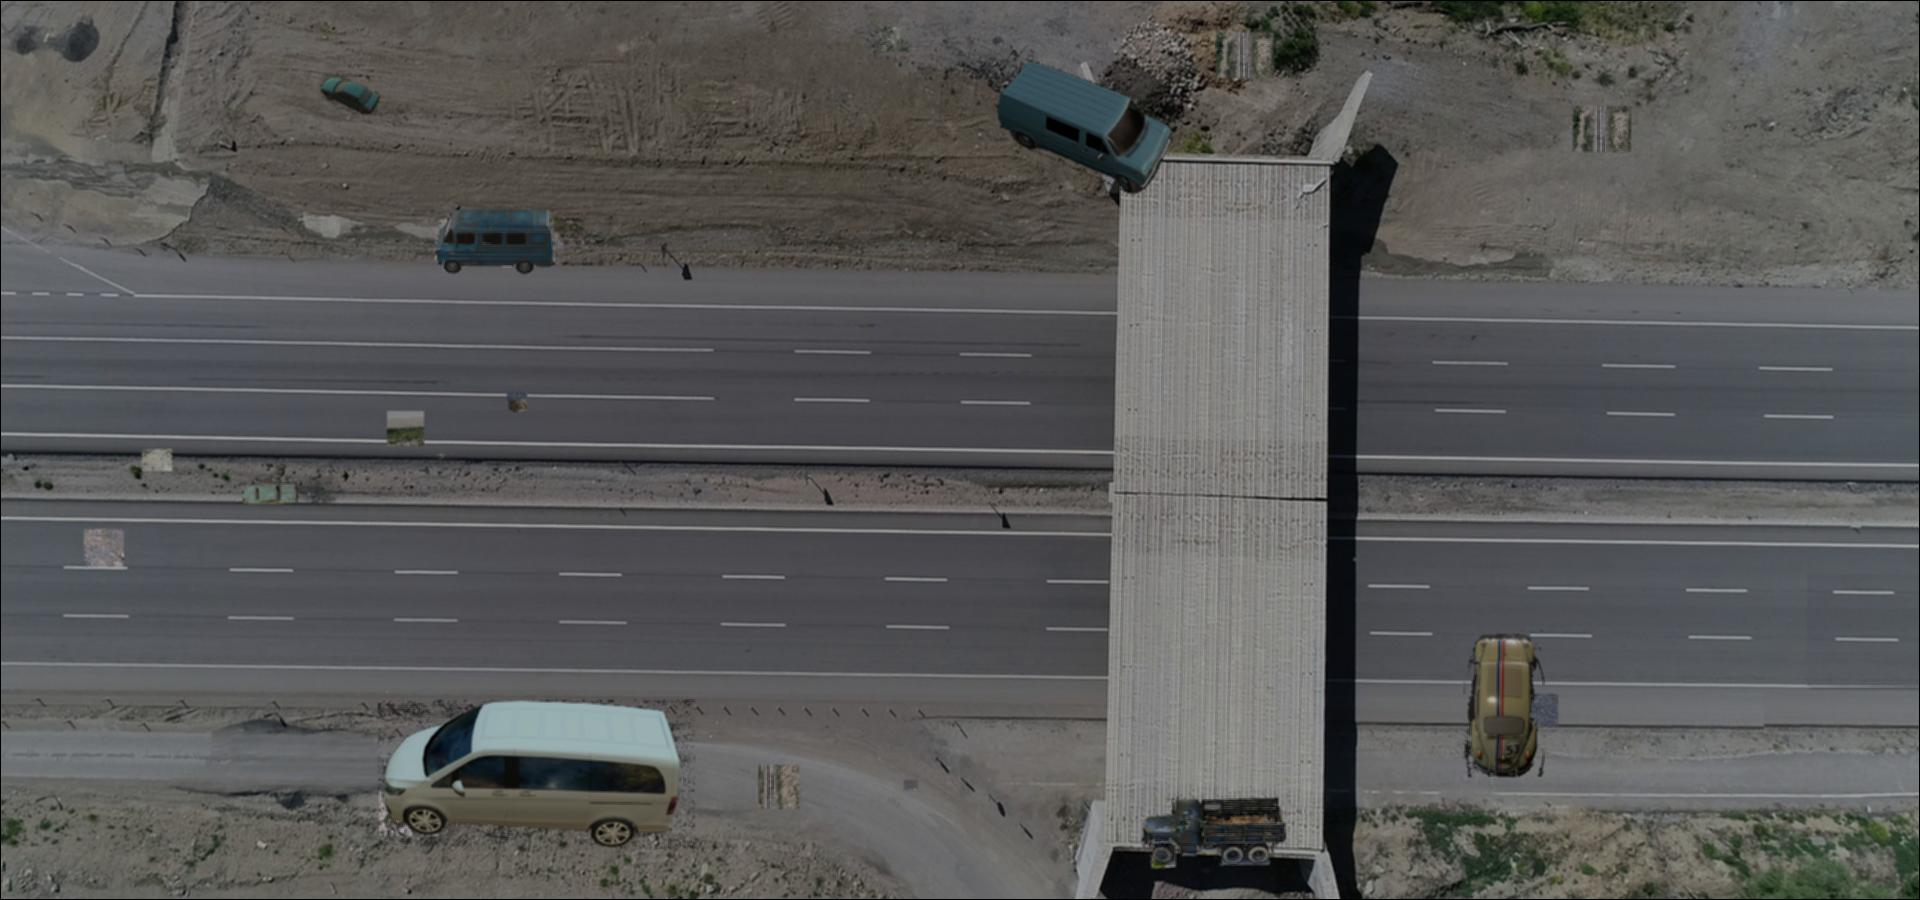arac: (378, 700, 696, 849), (996, 58, 1173, 195), (1140, 792, 1289, 872), (1463, 634, 1544, 778), (433, 211, 557, 274), (320, 76, 380, 115), (240, 482, 300, 504)
